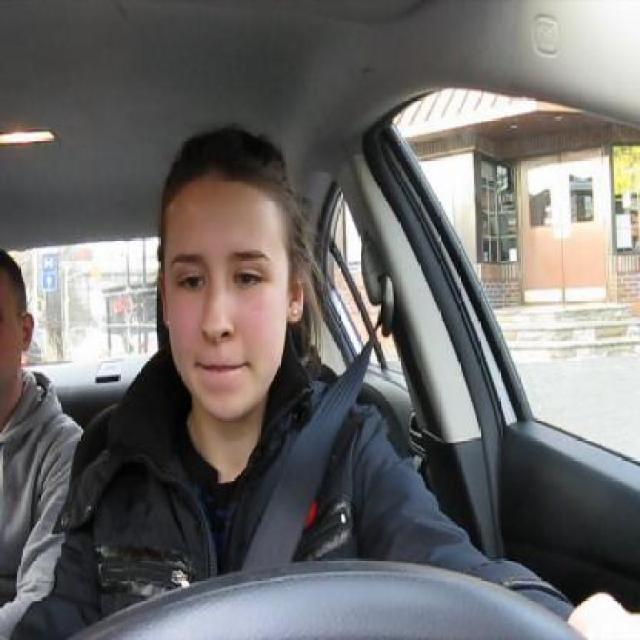awake: (179, 268, 206, 297), (235, 266, 263, 292)
